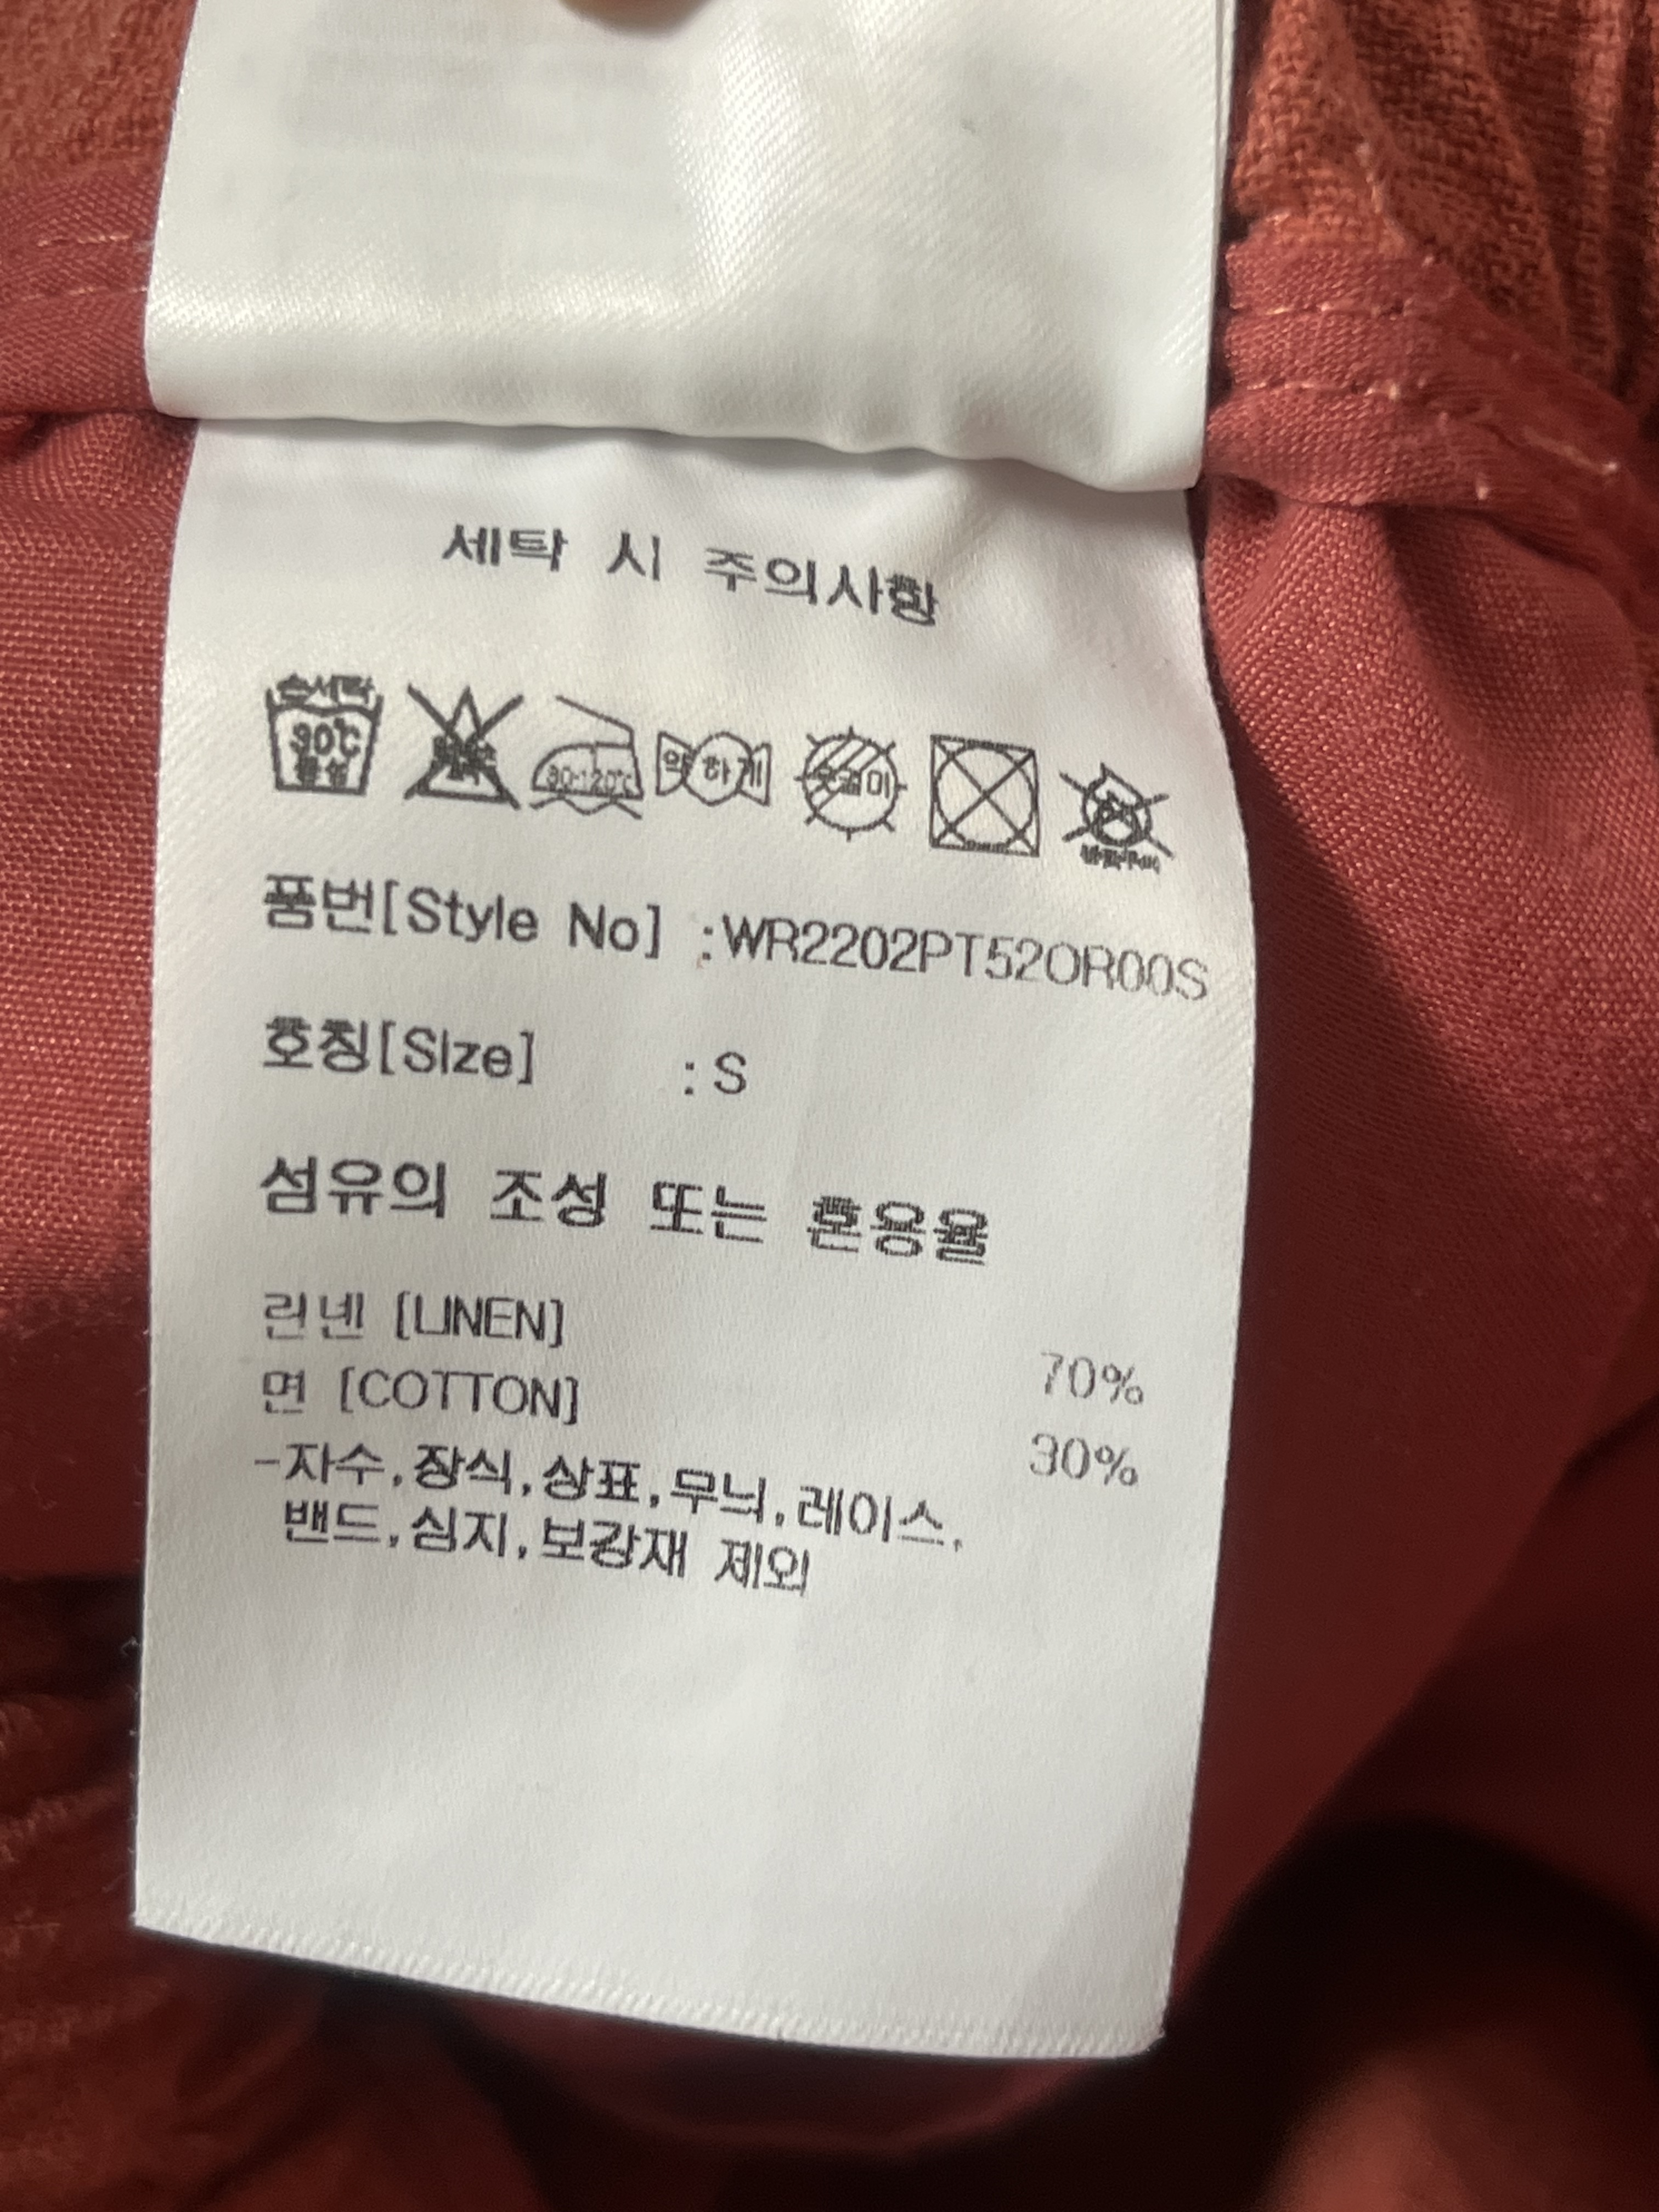DN_bleach: (397, 667, 535, 819)
DN_tumble_dry: (918, 721, 1047, 867)
dry_flat_in_shade: (793, 719, 908, 846)
hand_wash: (254, 657, 399, 810)
iron_low: (528, 683, 650, 826)
wring: (647, 716, 782, 817)
